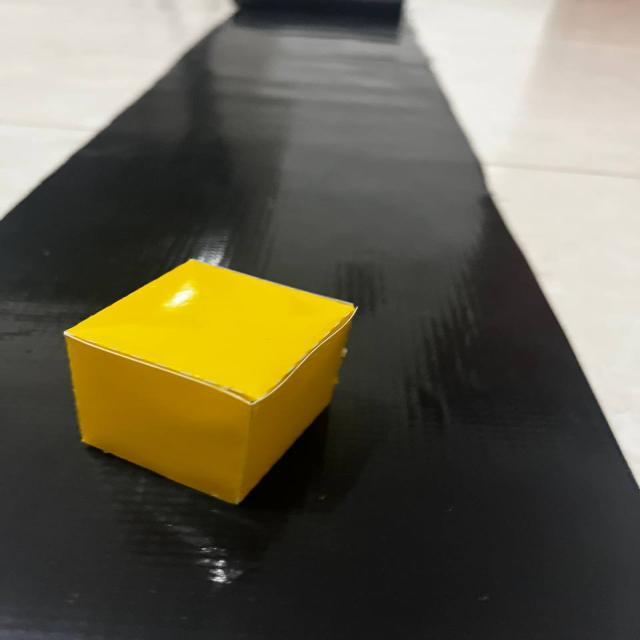Amarillo: (50, 247, 382, 525)
